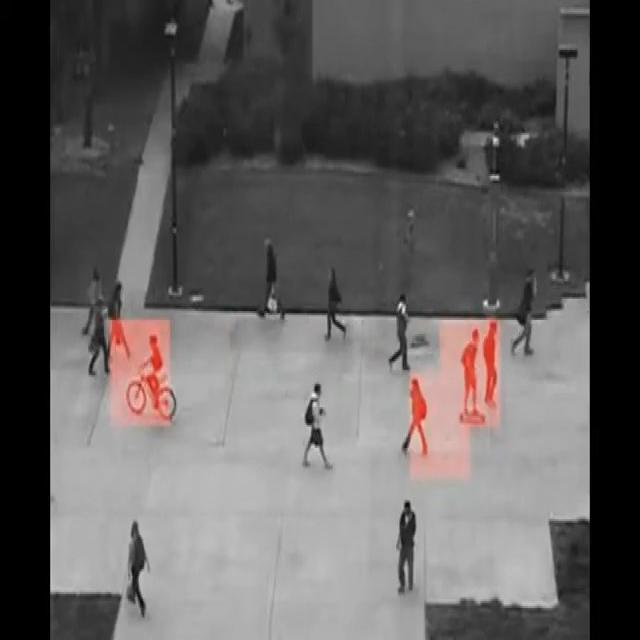anamoly: (122, 325, 189, 439), (438, 308, 499, 432)
